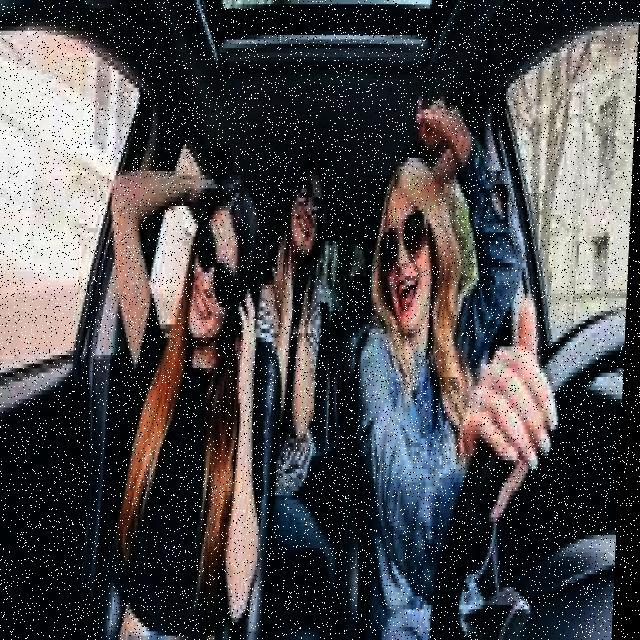noSeatbelt: (343, 276, 497, 640), (122, 306, 268, 636)
